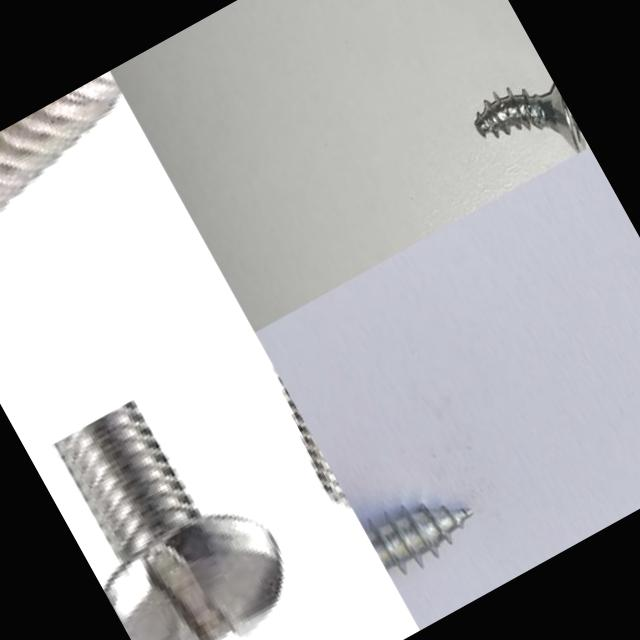Screw: (54, 398, 281, 640), (0, 71, 122, 209), (475, 83, 587, 154), (366, 505, 473, 575)
